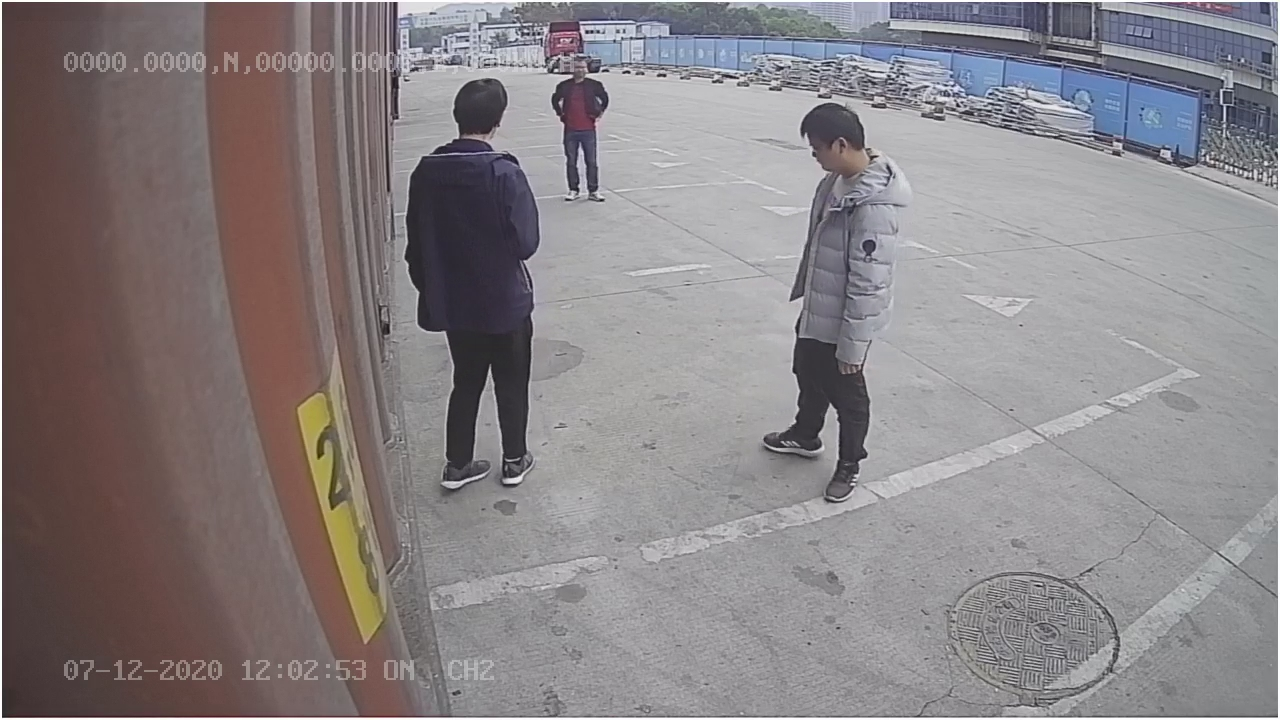person: (755, 89, 918, 501)
